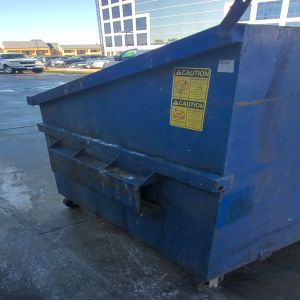Dumpster: (29, 24, 300, 293)
